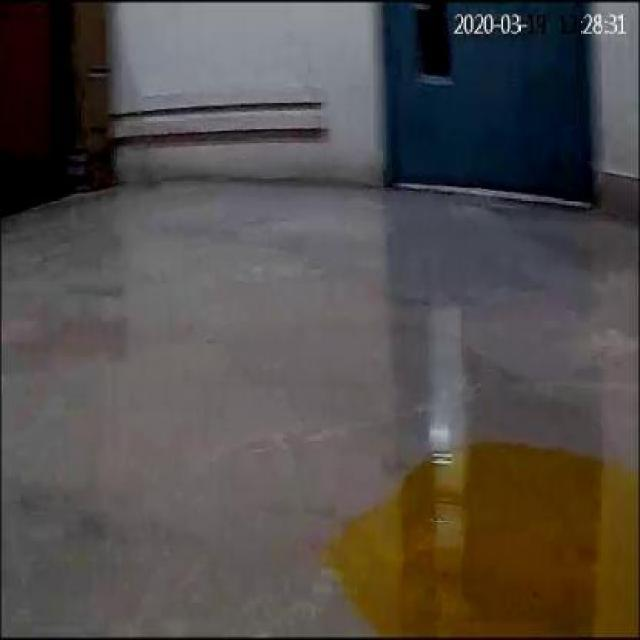spill: (330, 433, 636, 632)
